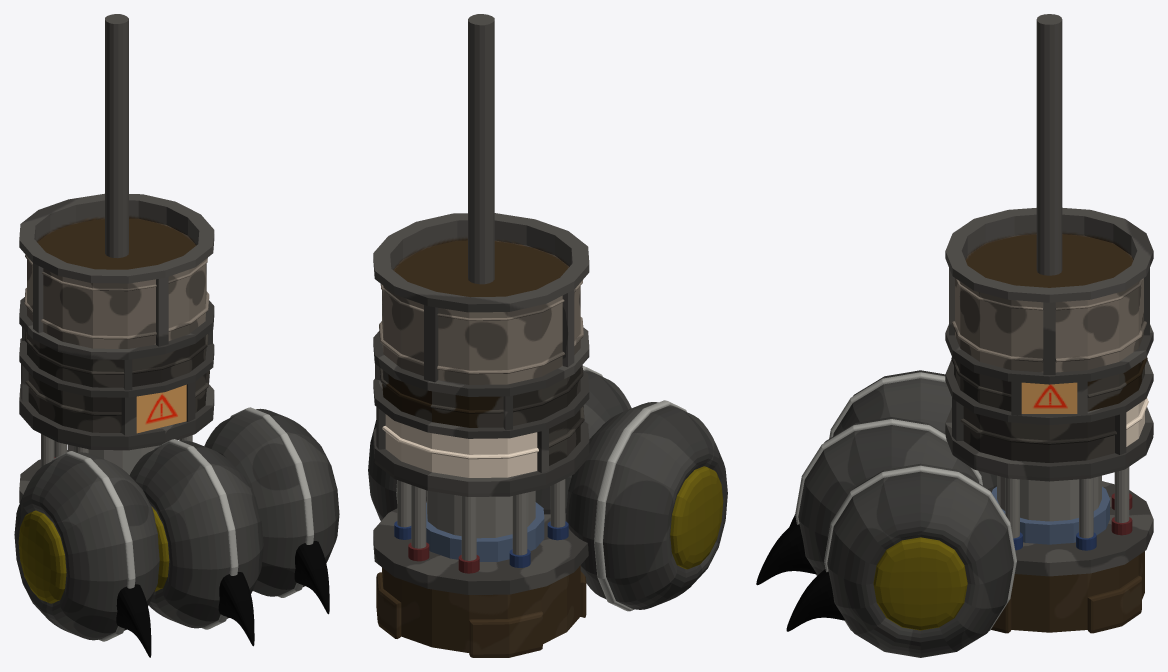
Rendered from WallingObject1.fbx.
3 views of the same model, side by side, from view 1: azimuth 30°, elevation 25°; view 2: azimuth 150°, elevation 25°; view 3: azimuth 270°, elevation 25° (orthographic). The views are drawn at different scales.
Parts seen in each view (by area): view 1: Cylinder.002; view 2: Cylinder.002; view 3: Cylinder.002.
Part boxes in pixels (x1,y1,x2,y2): Cylinder.002: (14,14,339,657); Cylinder.002: (368,14,727,657); Cylinder.002: (756,14,1153,657).
Size of the model in its own units: 571 by 934 by 505.
